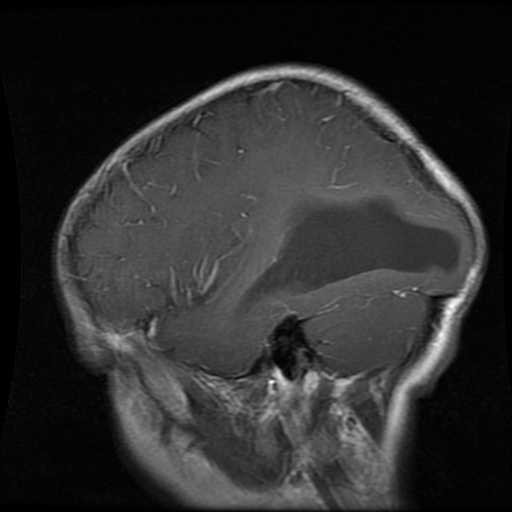glioma: (235, 192, 460, 317)
